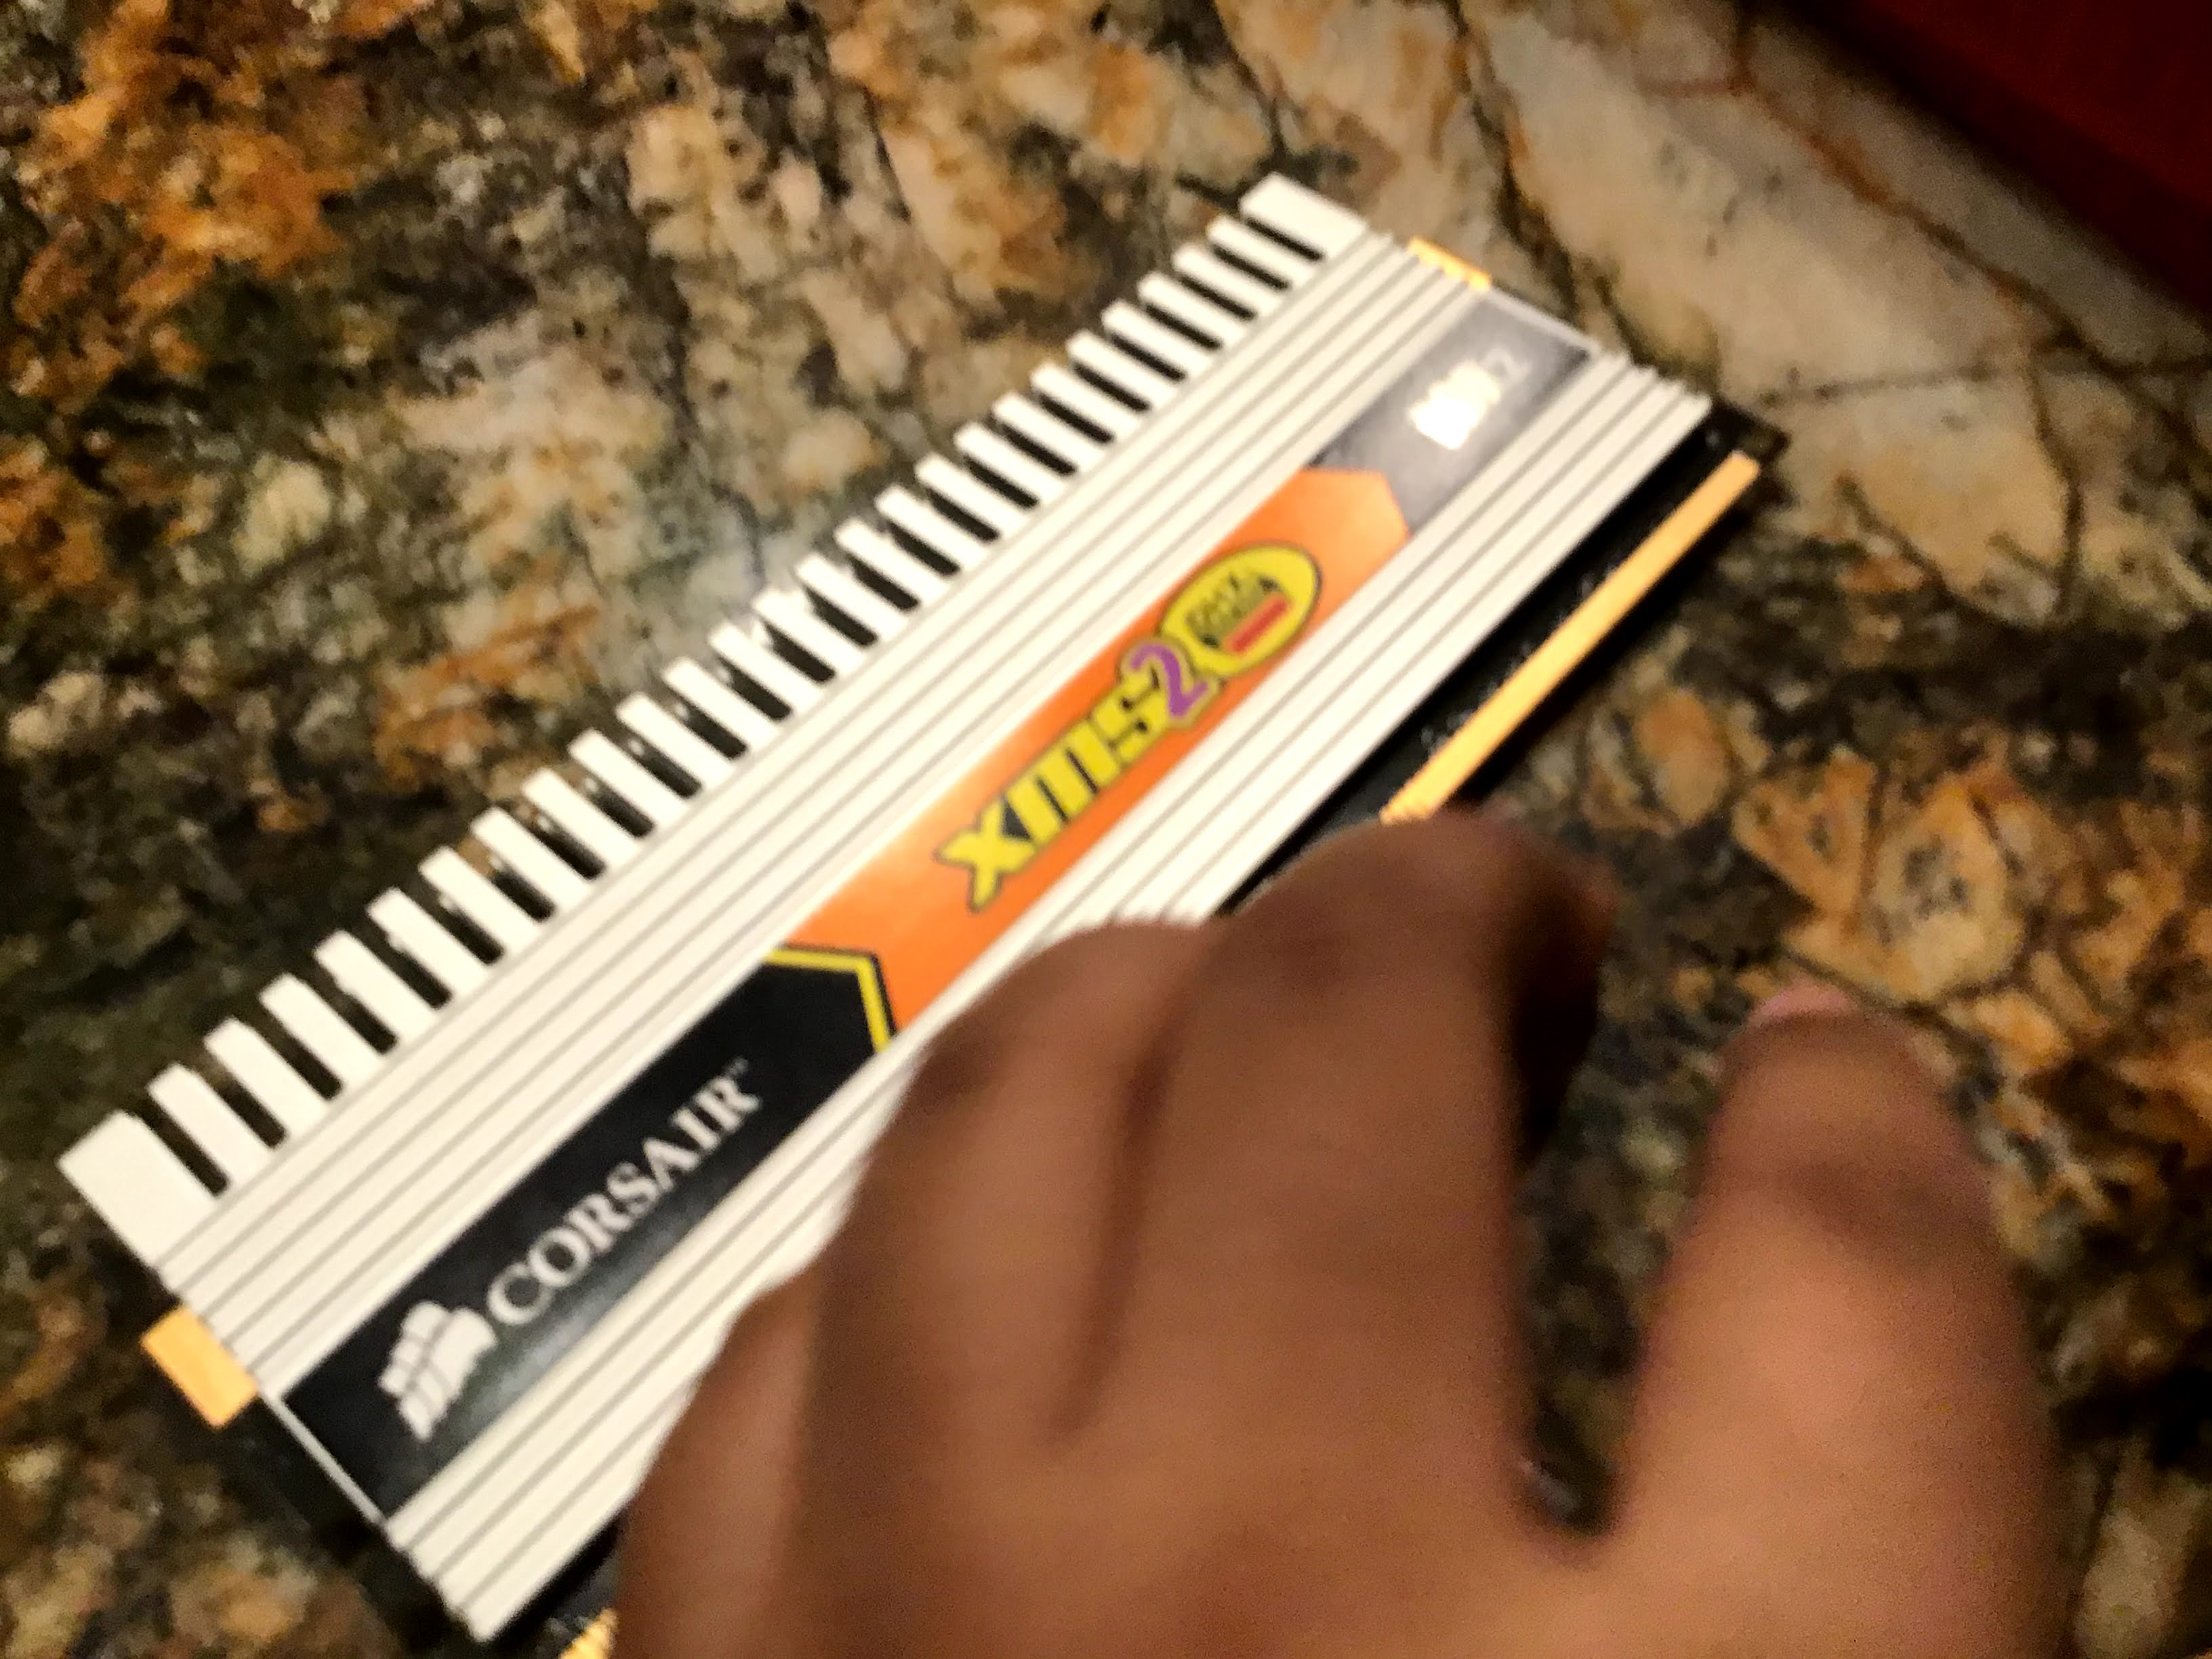Space-debris-medium: (51, 152, 1784, 1643)
